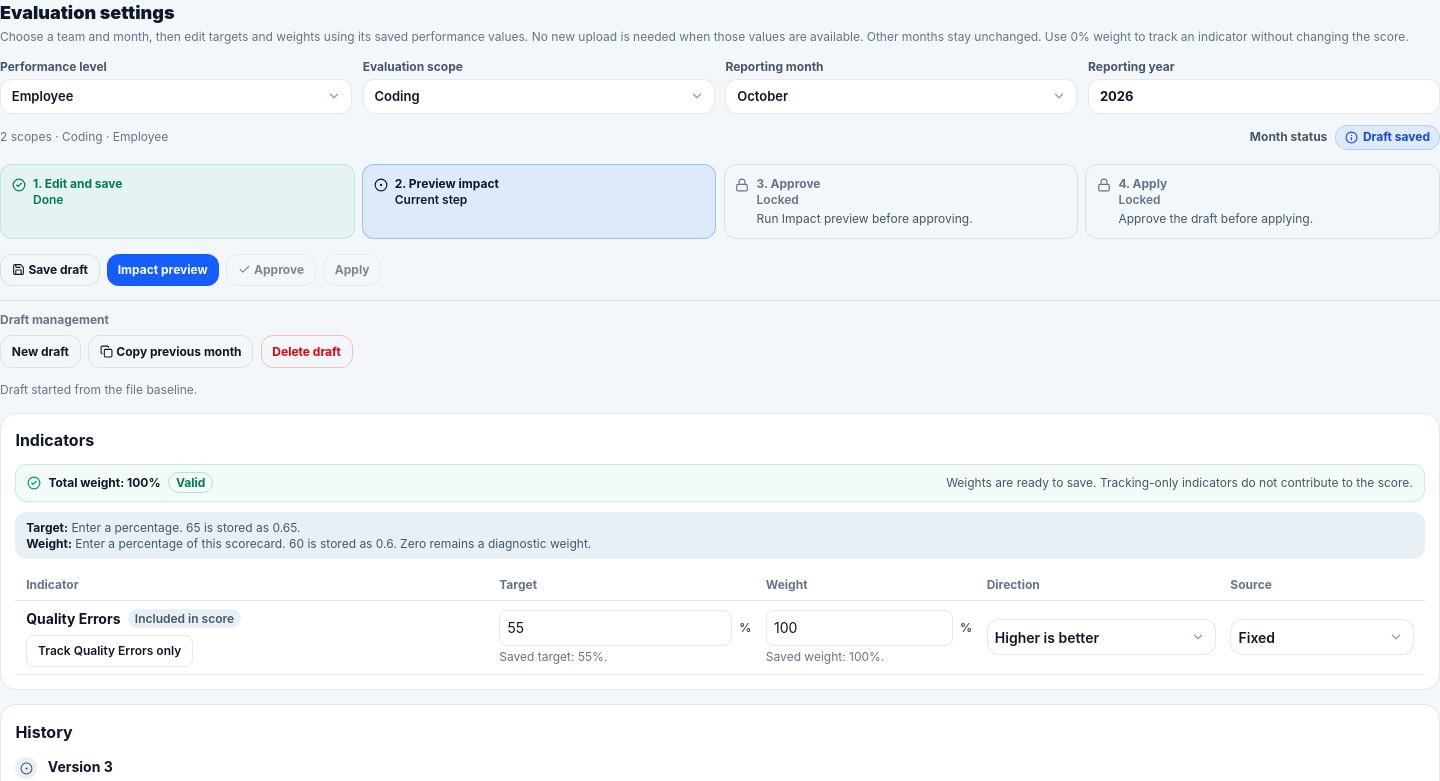
Test: asks before discarding unsaved draft edits when changing levels
Replace the text in the field named "QualityErrors target" with "70". click: [616, 628]
box: [499,610,732,646]
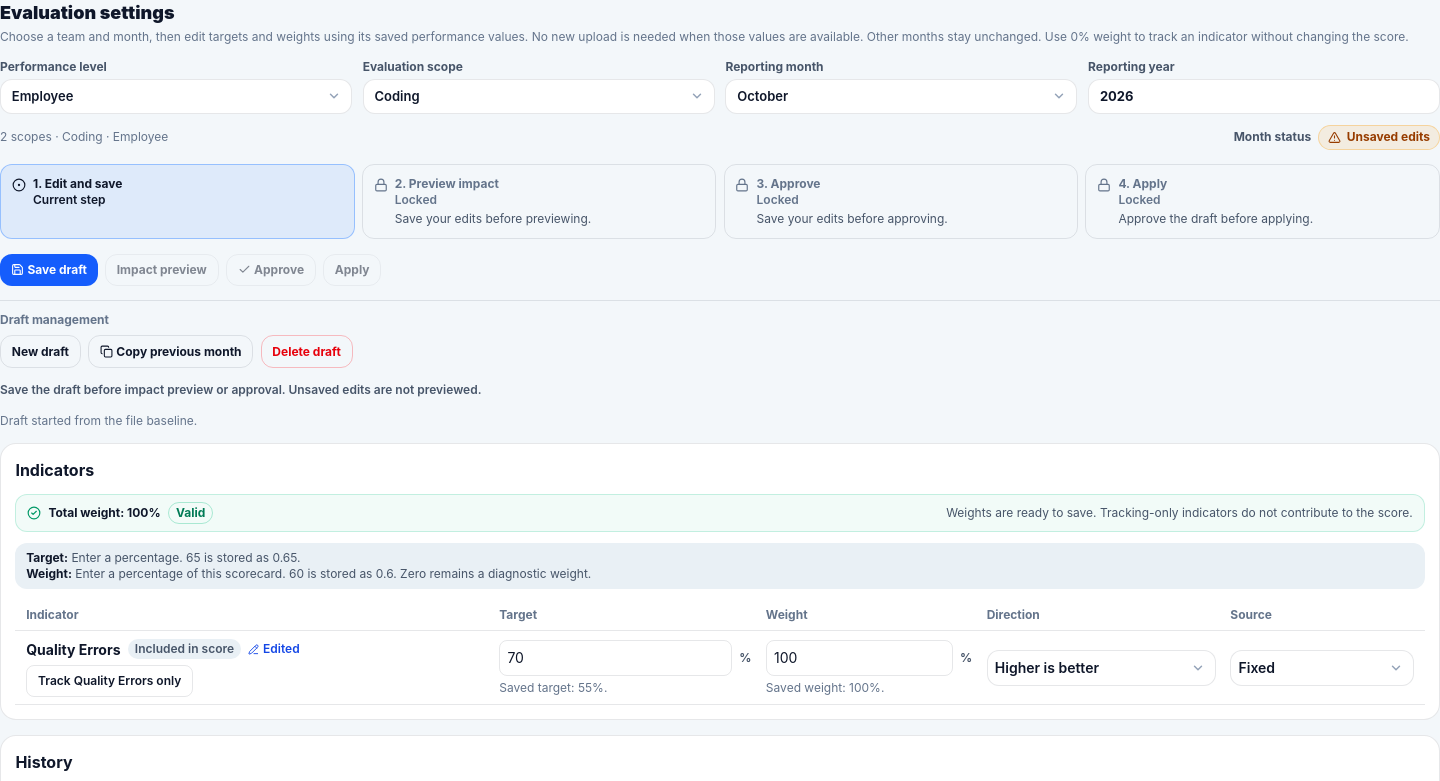
Select "Corporate" in the dropdown labelled "Performance level". click: [176, 96]
box: [0,79,352,114]
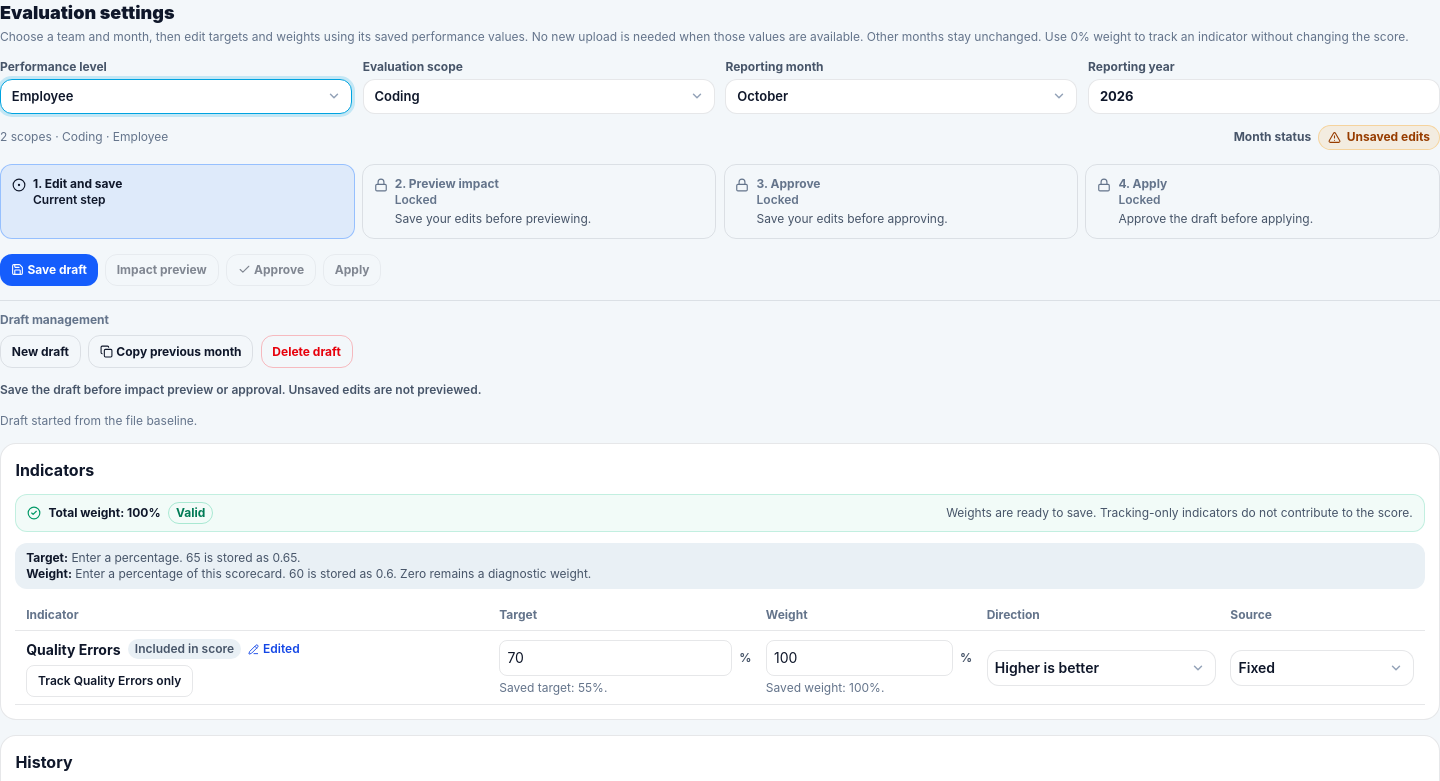
Select "Corporate" in the dropdown labelled "Performance level". click: [176, 96]
box: [0,79,352,114]
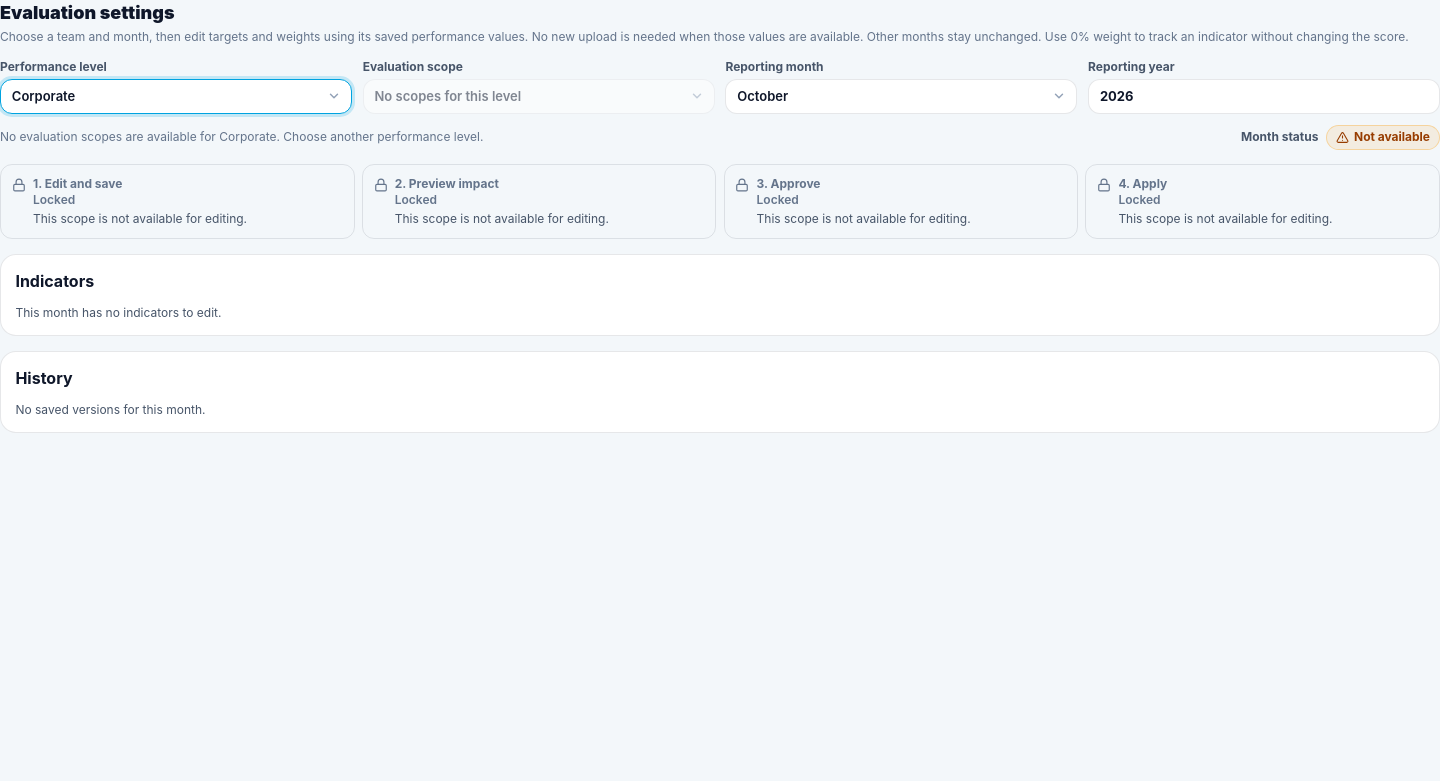
Select "Employee" in the dropdown labelled "Performance level". click: [176, 96]
box: [0,79,352,114]
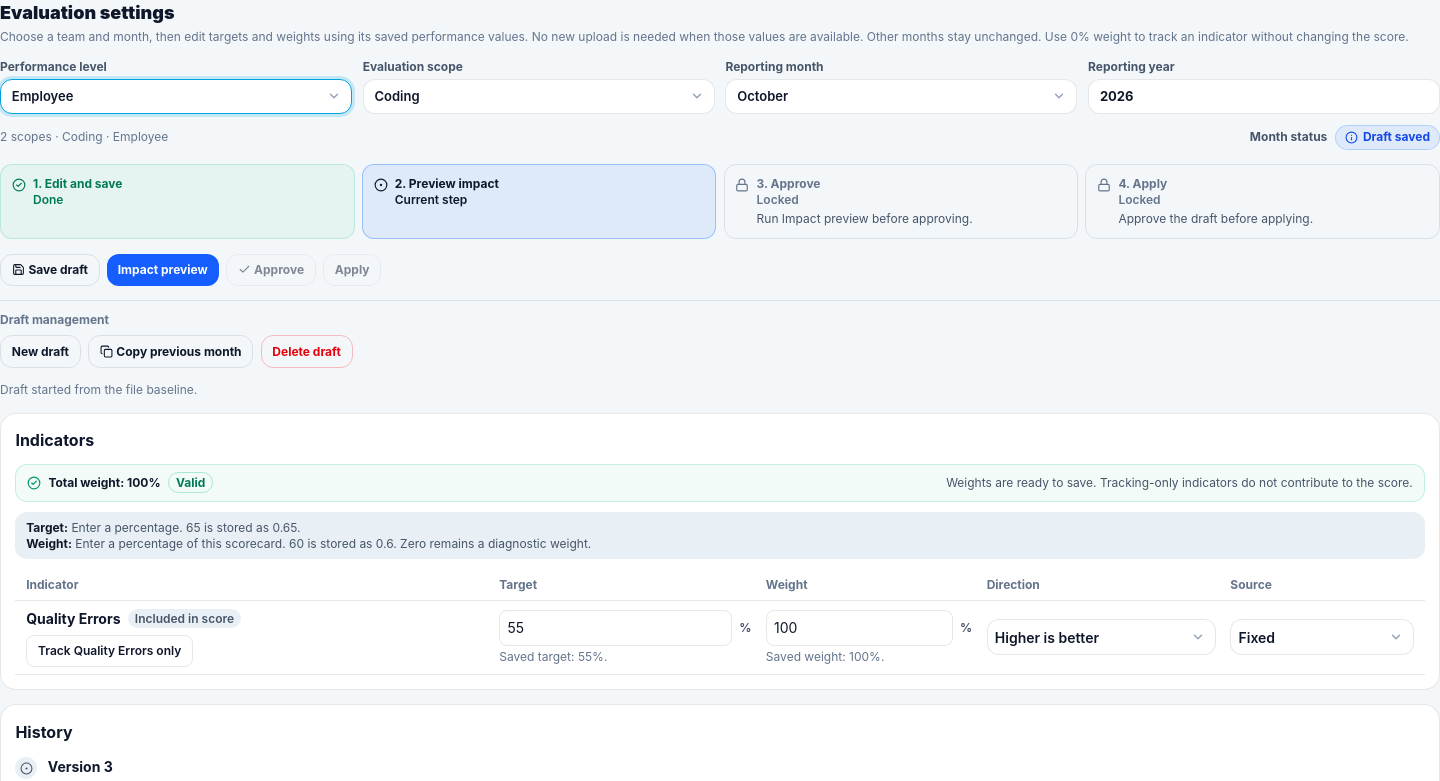
Expected: the field named "QualityErrors target" holds "55", [499,610,732,646]
